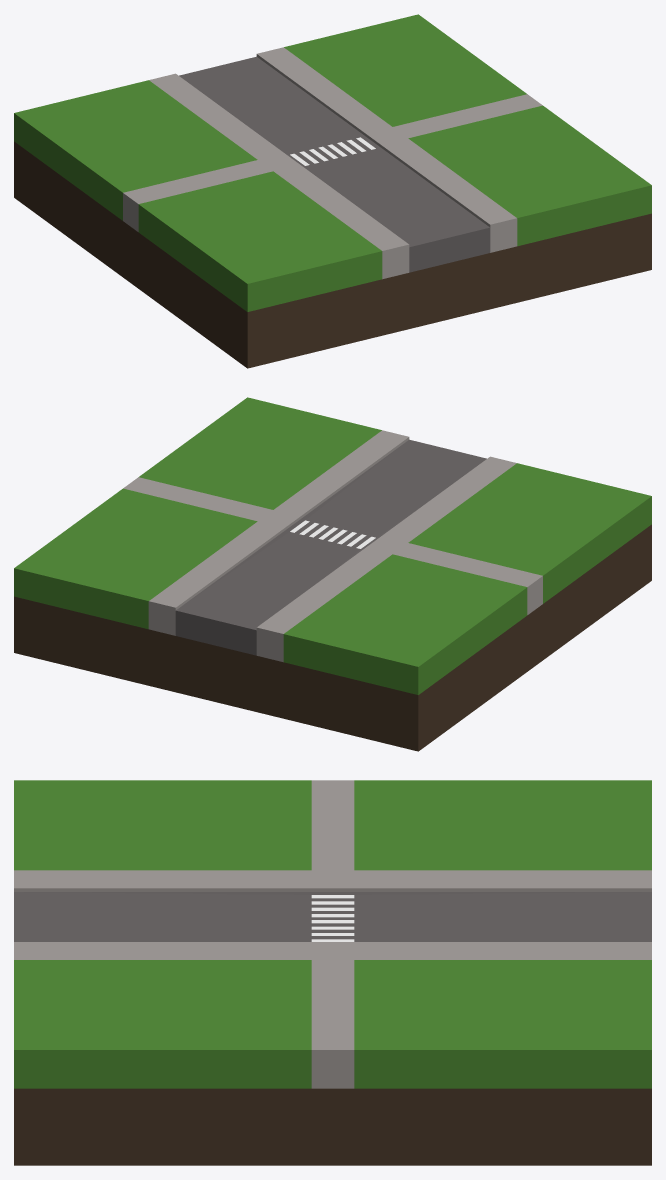
File: tile-road-straight-crosswalk.fbx
3 renders of one model, top to bottom at view 1: azimuth 30°, elevation 25°; view 2: azimuth 150°, elevation 25°; view 3: azimuth 270°, elevation 25°, orthographic. The views are drawn at different scales.
Visible parts, largest first — view 1: tile-road-straight-crosswalk; view 2: tile-road-straight-crosswalk; view 3: tile-road-straight-crosswalk.
Part boxes in pixels (x1=…): tile-road-straight-crosswalk: x1=14, y1=14, x2=651, y2=368; tile-road-straight-crosswalk: x1=14, y1=397, x2=651, y2=751; tile-road-straight-crosswalk: x1=14, y1=780, x2=651, y2=1165.
Size of the model in its own units: 30 by 6 by 30.
